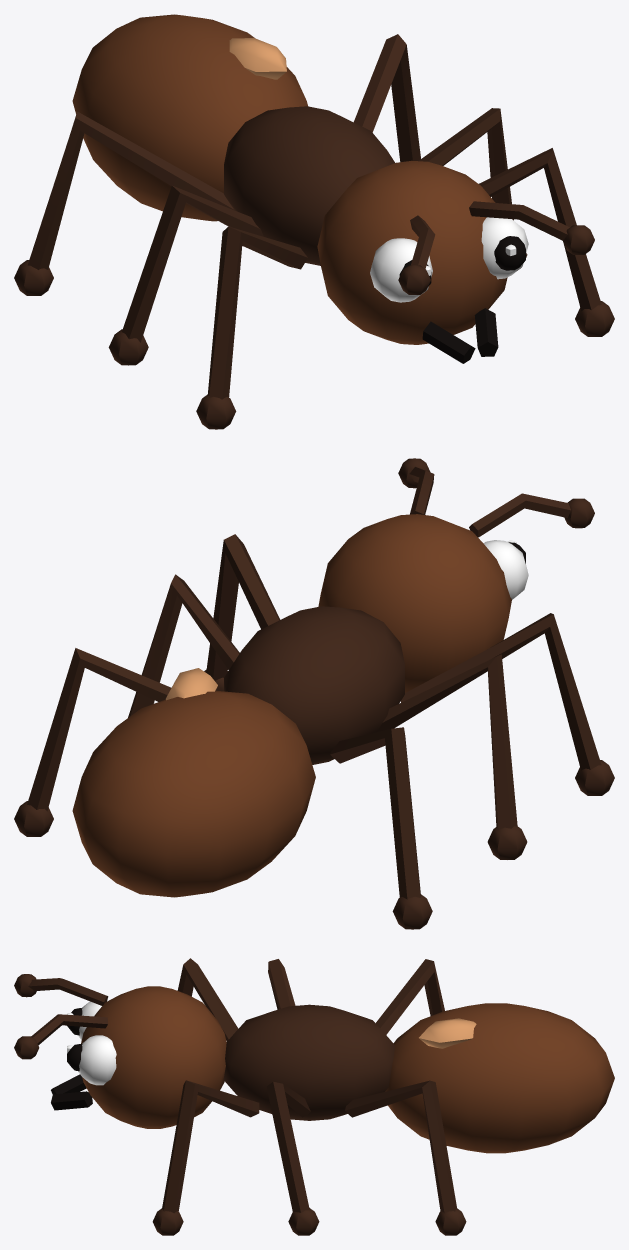
The model's file is ant.glb.
3 views of the same model, one above another, from view 1: azimuth 30°, elevation 25°; view 2: azimuth 150°, elevation 25°; view 3: azimuth 270°, elevation 25° (orthographic). The views are drawn at different scales.
Parts seen in each view (by area): view 1: Ant; view 2: Ant; view 3: Ant.
Part boxes in pixels (left/top/right/bottom): Ant: left=14, top=14, right=614, bottom=429; Ant: left=14, top=458, right=614, bottom=929; Ant: left=14, top=958, right=614, bottom=1235.
Size of the model in its own units: 1.2 by 0.6185 by 1.98.
